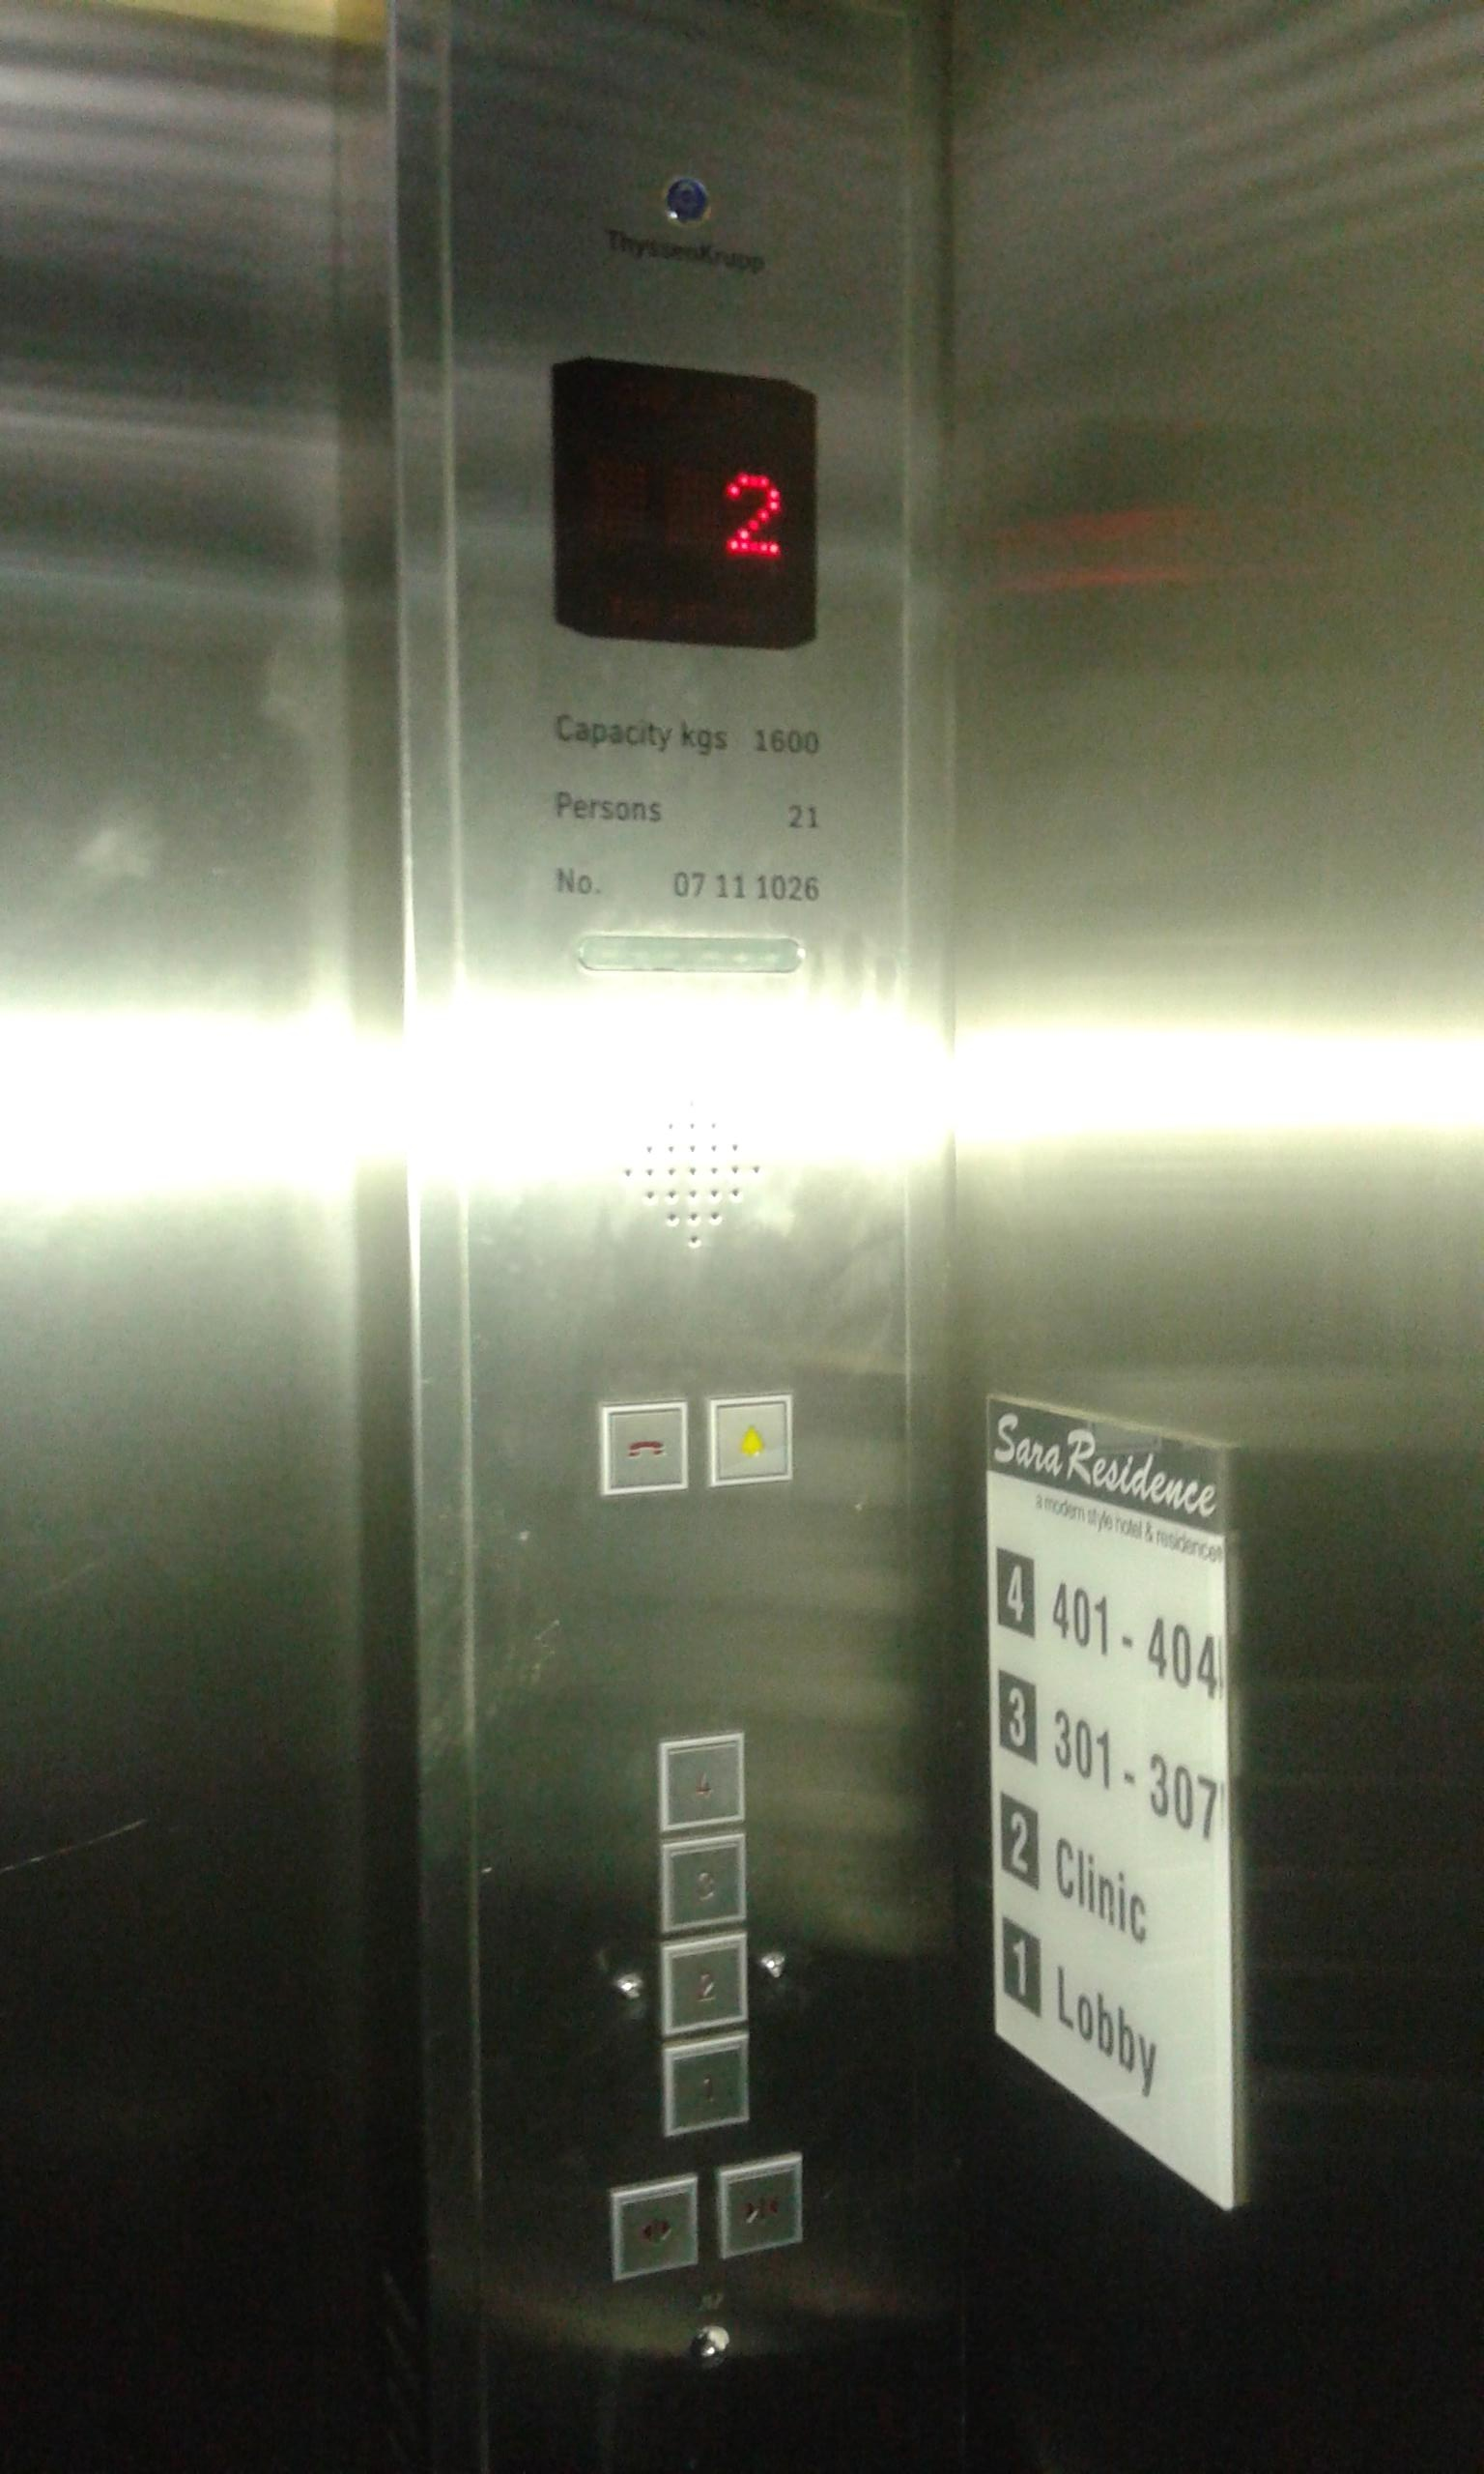1: (655, 2029, 753, 2138)
2: (655, 1931, 753, 2039)
3: (650, 1829, 751, 1935)
4: (650, 1730, 751, 1838)
alarm: (700, 1391, 799, 1488)
call: (594, 1394, 694, 1500)
close: (714, 2152, 811, 2262)
led: (546, 339, 829, 656)
open: (606, 2172, 703, 2280)
